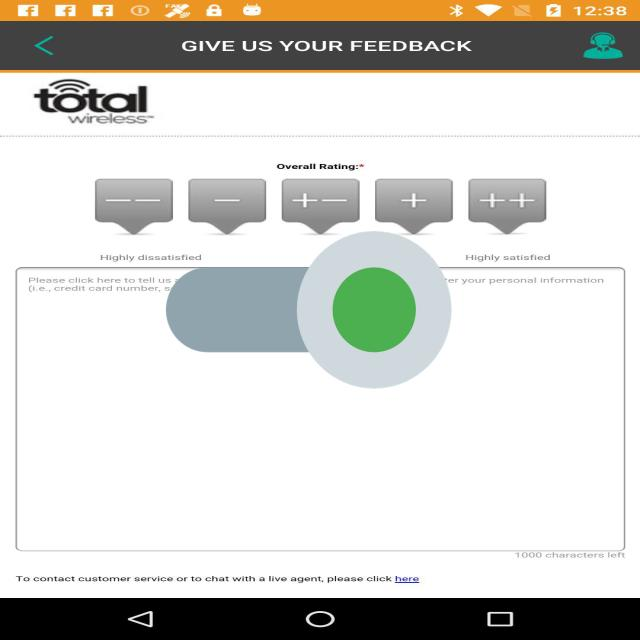social proof: (166, 164, 451, 456)
